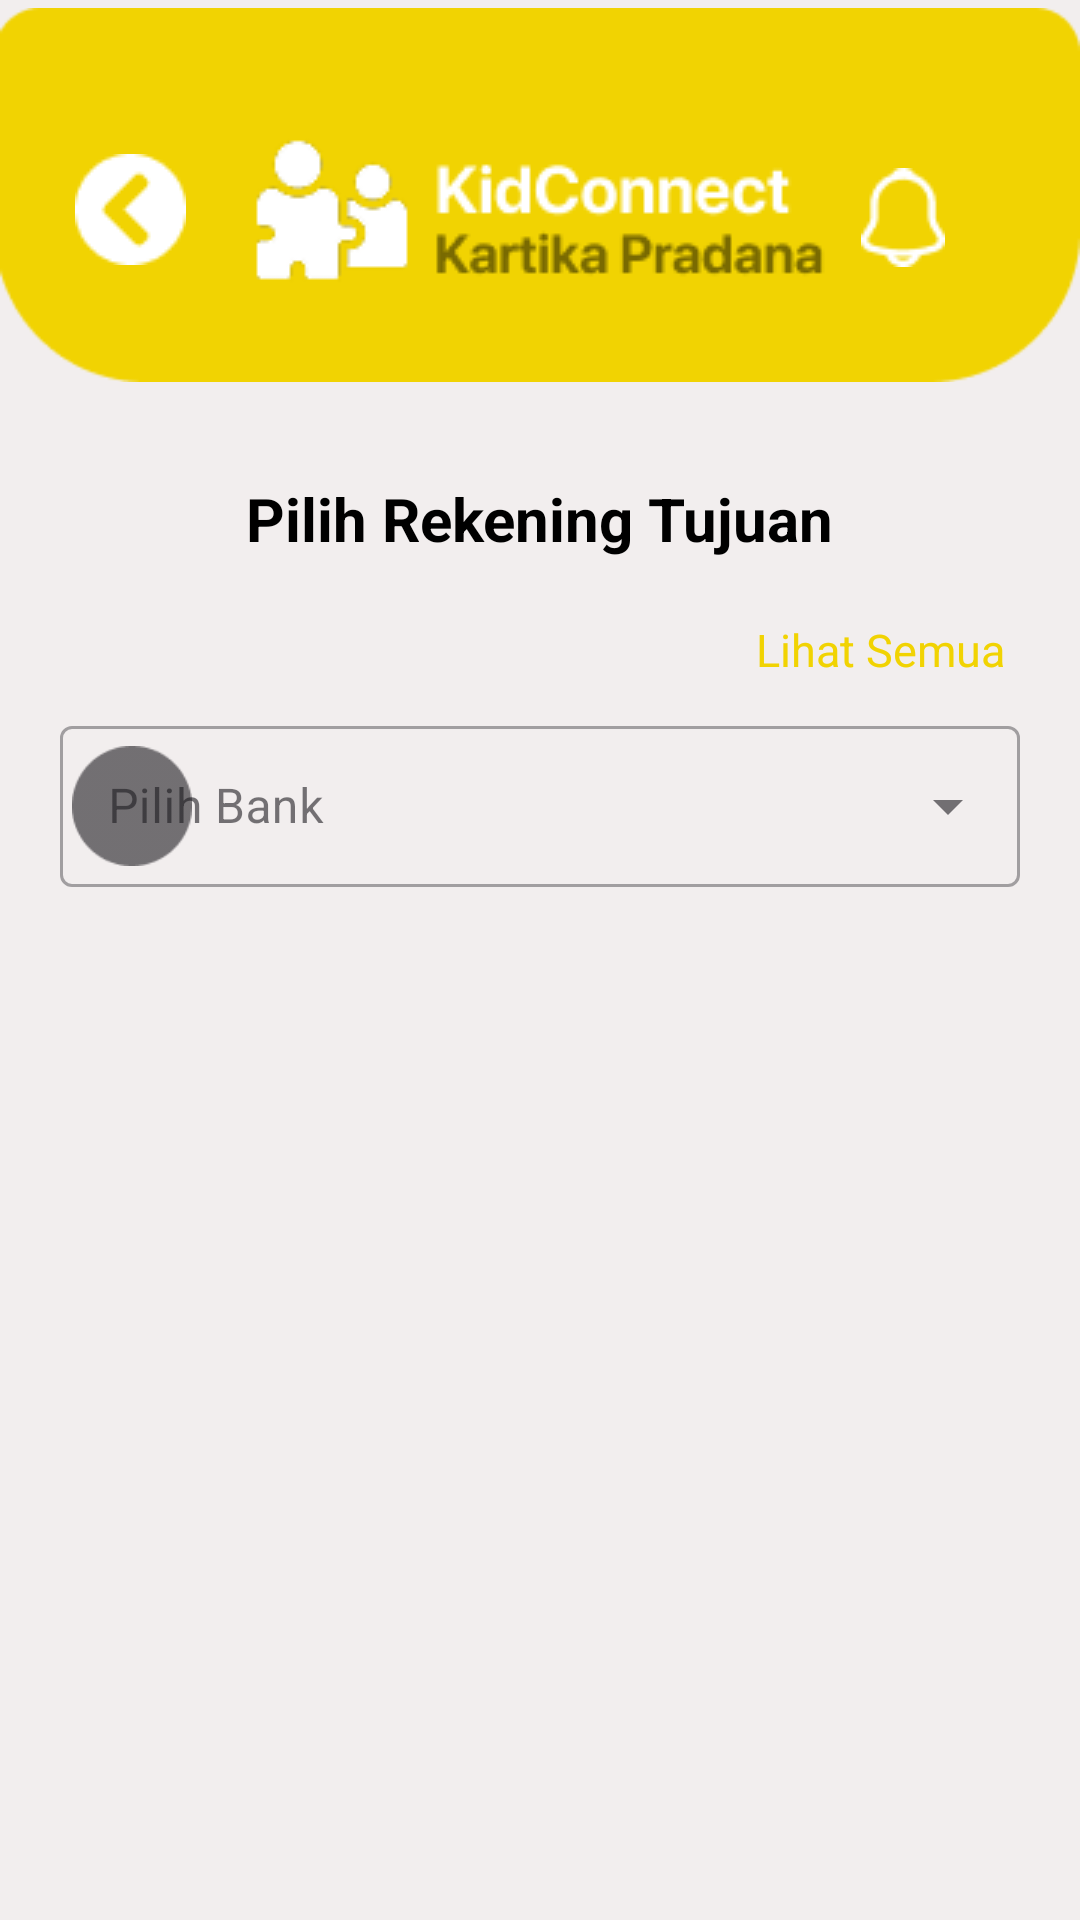

Screen size 1080 × 1920. Icon name, then its center in pixels as [x,y]:
back: [130,209]
notif: [903,217]
